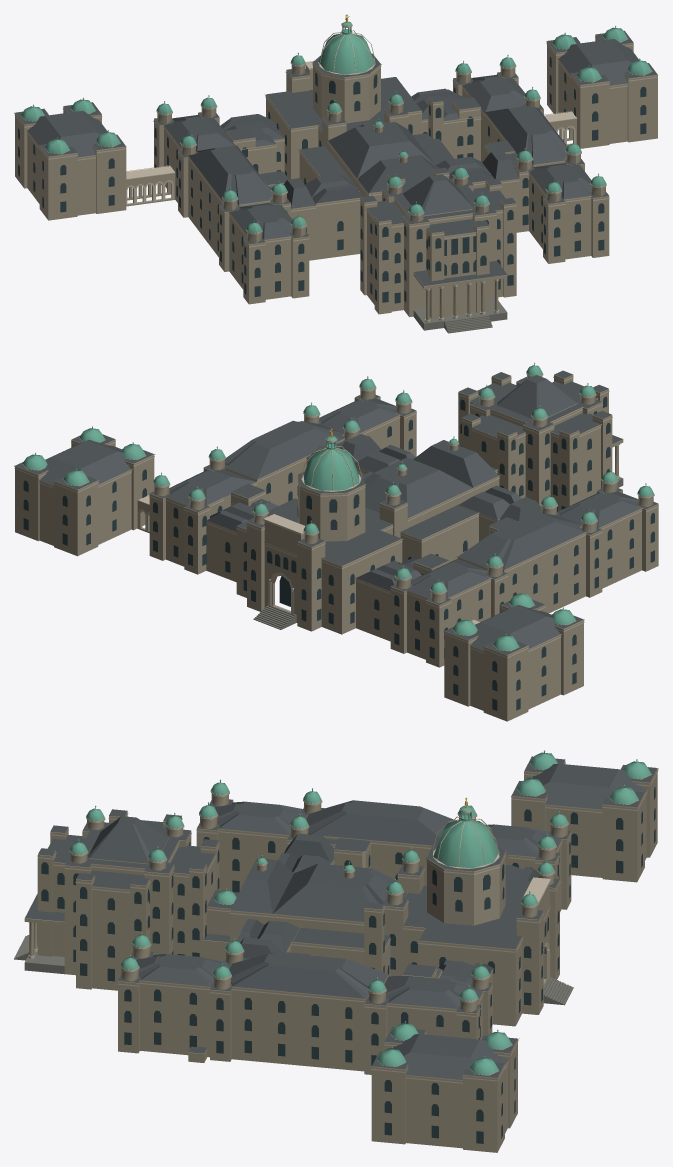
Rendered from bc-parliament-buildings-far.glb.
The picture shows the model from 3 angles, top to bottom: view 1: azimuth 30°, elevation 25°; view 2: azimuth 150°, elevation 25°; view 3: azimuth 270°, elevation 25°; orthographic projection. The views are drawn at different scales.
Visible parts, largest first — view 1: bc-parliament-buildings-0-stone, bc-parliament-buildings-0-roof, bc-parliament-buildings-0-glass, bc-parliament-buildings-0-copper, bc-parliament-buildings-0-trim, bc-parliament-buildings-0-light, bc-parliament-buildings-0-foundation; view 2: bc-parliament-buildings-0-stone, bc-parliament-buildings-0-roof, bc-parliament-buildings-0-glass, bc-parliament-buildings-0-copper, bc-parliament-buildings-0-trim, bc-parliament-buildings-0-light, bc-parliament-buildings-0-foundation; view 3: bc-parliament-buildings-0-stone, bc-parliament-buildings-0-roof, bc-parliament-buildings-0-copper, bc-parliament-buildings-0-glass, bc-parliament-buildings-0-trim, bc-parliament-buildings-0-light, bc-parliament-buildings-0-foundation.
Part boxes in pixels (x1,y1,x2,y2): bc-parliament-buildings-0-stone: (15,35,657,320); bc-parliament-buildings-0-roof: (15,30,657,285); bc-parliament-buildings-0-glass: (18,56,646,303); bc-parliament-buildings-0-copper: (21,21,652,233); bc-parliament-buildings-0-trim: (14,24,657,322); bc-parliament-buildings-0-light: (14,30,657,240); bc-parliament-buildings-0-foundation: (413,299,507,333); bc-parliament-buildings-0-stone: (15,375,658,721); bc-parliament-buildings-0-roof: (15,370,657,654); bc-parliament-buildings-0-glass: (23,396,654,710); bc-parliament-buildings-0-copper: (22,362,653,650); bc-parliament-buildings-0-trim: (14,372,658,657); bc-parliament-buildings-0-light: (14,403,642,655); bc-parliament-buildings-0-foundation: (253,473,623,629); bc-parliament-buildings-0-stone: (24,760,657,1152); bc-parliament-buildings-0-roof: (25,756,657,1079); bc-parliament-buildings-0-copper: (69,750,651,1075); bc-parliament-buildings-0-glass: (41,786,655,1143); bc-parliament-buildings-0-trim: (28,762,658,1083); bc-parliament-buildings-0-light: (89,768,658,1080); bc-parliament-buildings-0-foundation: (14,935,573,1005).
Size of the model in its own units: 153 by 41.6 by 129.
